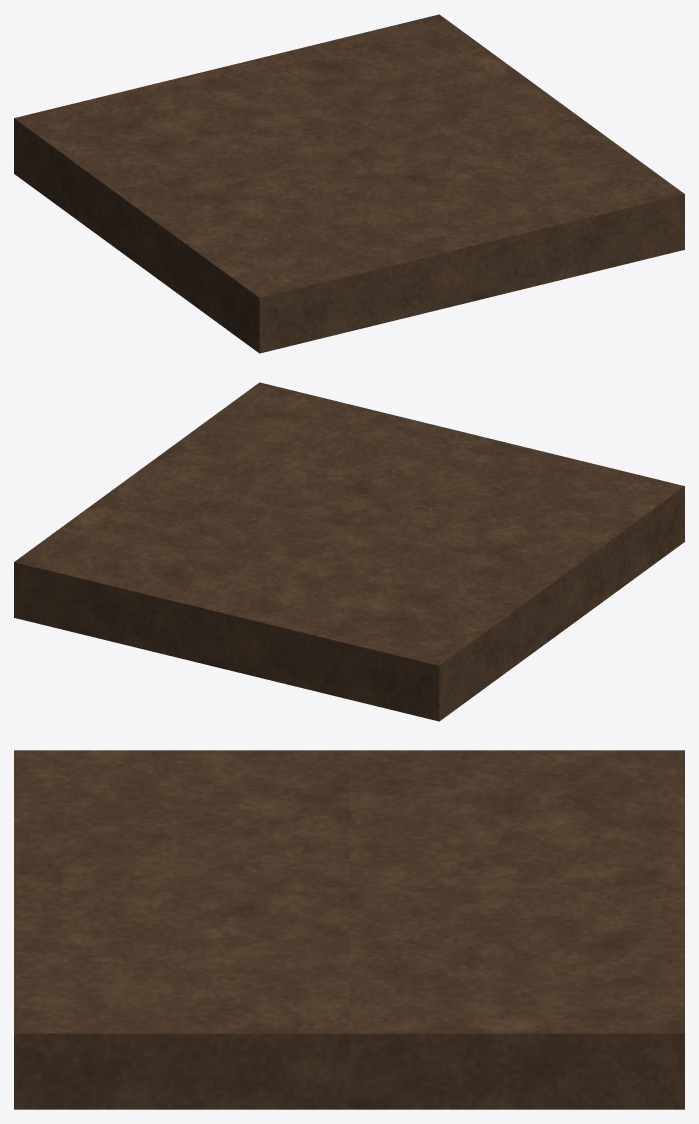
Rendered from ground_mud.glb.
The picture shows the model from 3 angles, top to bottom: view 1: azimuth 30°, elevation 25°; view 2: azimuth 150°, elevation 25°; view 3: azimuth 270°, elevation 25°; orthographic projection. The views are drawn at different scales.
Parts seen in each view (by area): view 1: wilds_tiles_ground_mud; view 2: wilds_tiles_ground_mud; view 3: wilds_tiles_ground_mud.
Part boxes in pixels (x1,y1,x2,y2): wilds_tiles_ground_mud: (14,14,684,353); wilds_tiles_ground_mud: (14,382,684,721); wilds_tiles_ground_mud: (14,750,684,1109).
Size of the model in its own units: 1 by 0.125 by 1.
1 material, 1 textured.
